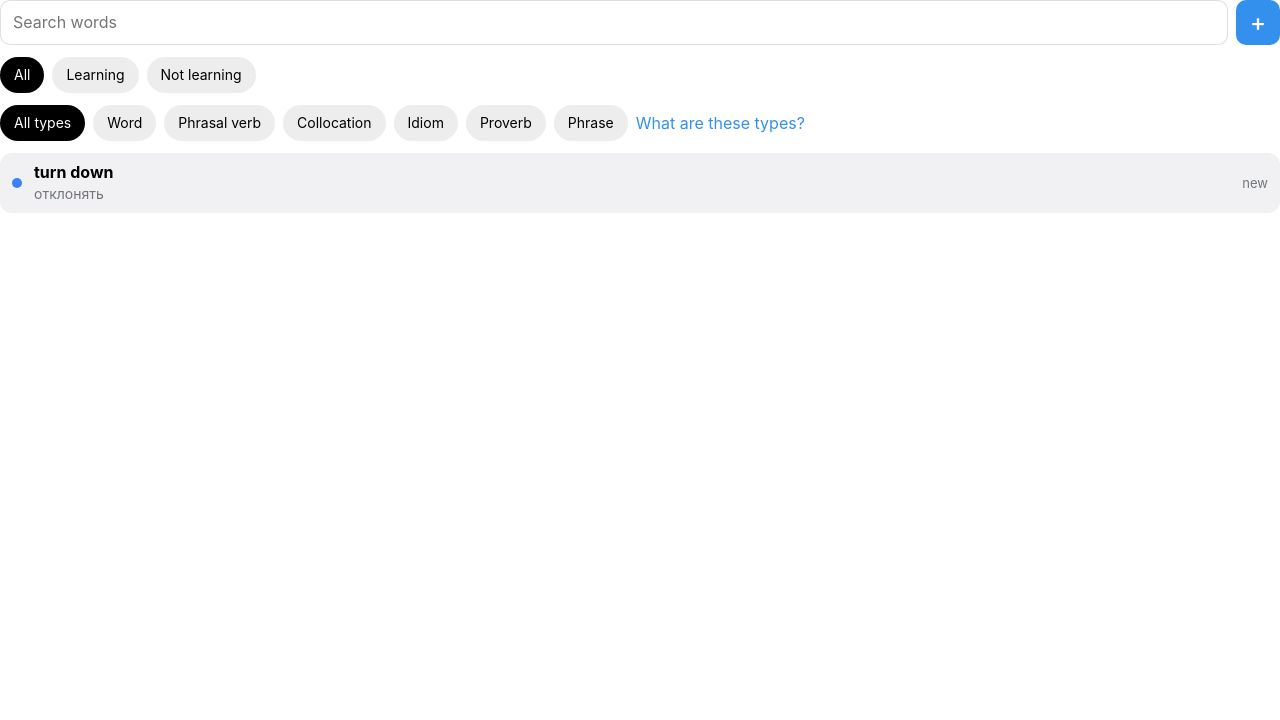
Scenario: CardsPage › card sheet › toggles learning from the sheet and updates the row without reloading the list
Expected: the text "new" is shown, [1242, 174, 1268, 192]
Click the button "turn down отклонять new" at (74, 172), box [0, 153, 1279, 213]
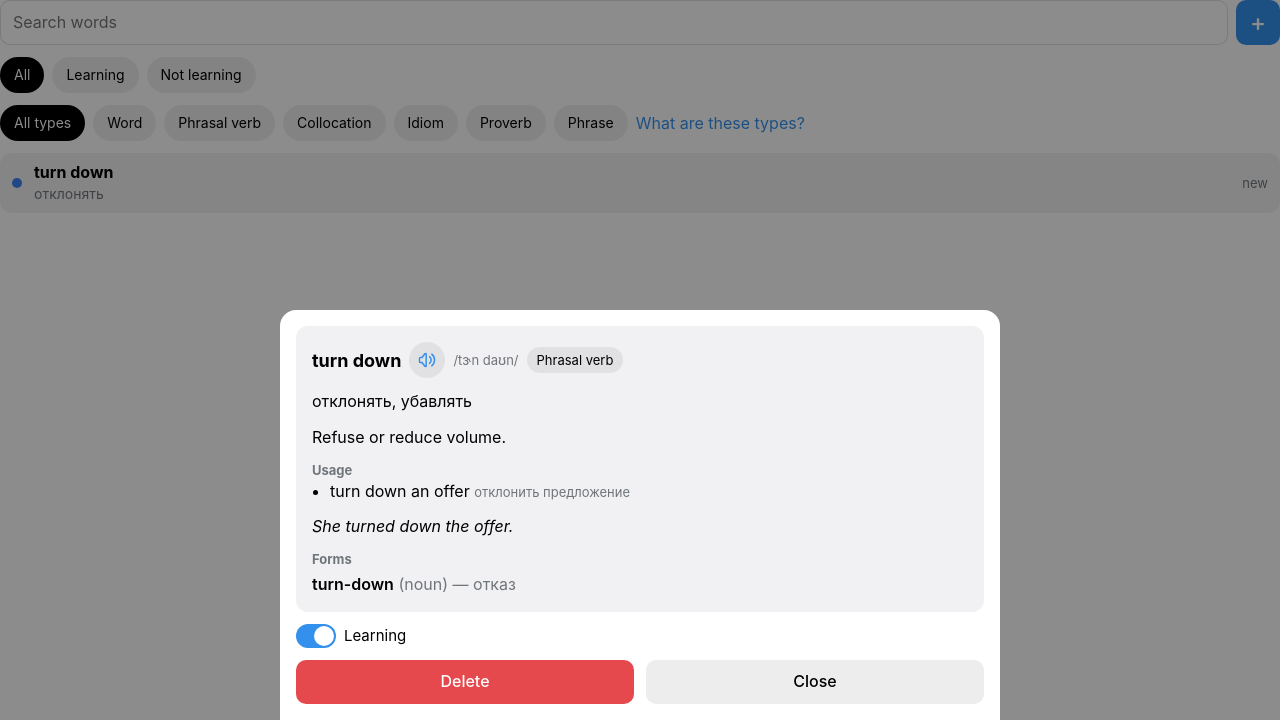
Click the switch labelled "Learning" at (316, 636), box [296, 624, 336, 648]
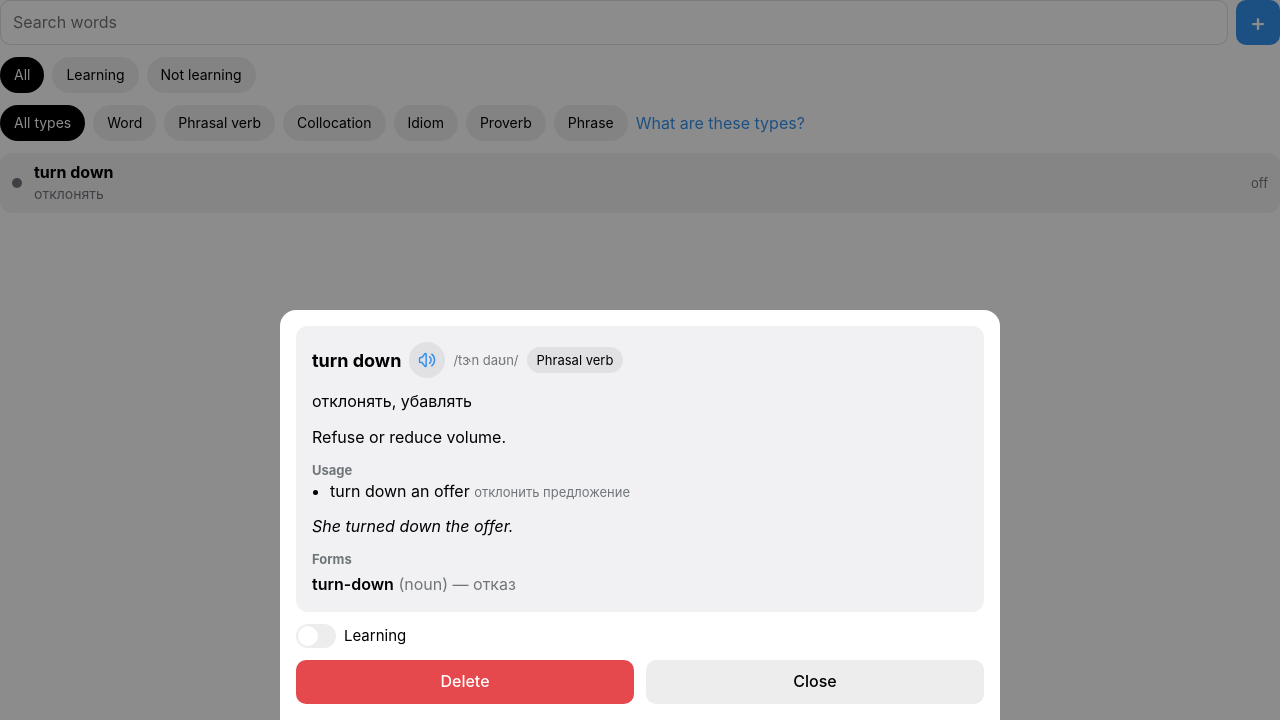
Expected: the text "off" is shown, [1251, 174, 1268, 192]
